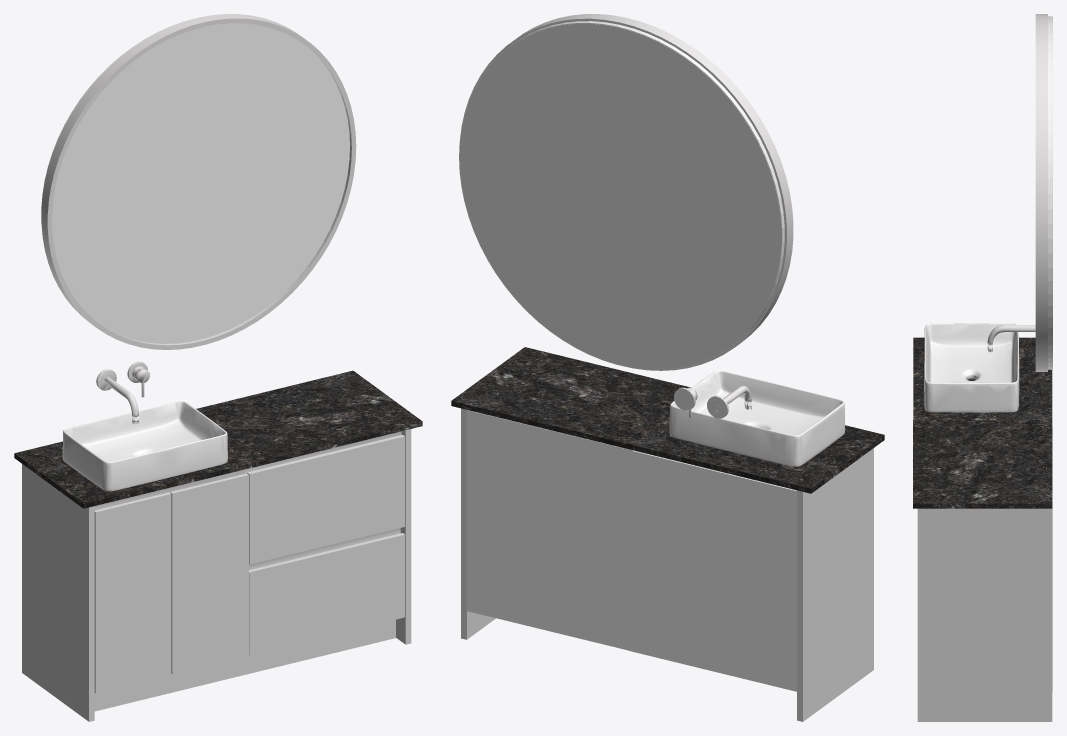
File: SAGA-final.glb
3 views of the same model, side by side, from view 1: azimuth 30°, elevation 25°; view 2: azimuth 150°, elevation 25°; view 3: azimuth 270°, elevation 25° (orthographic). The views are drawn at different scales.
Visible parts, largest first — view 1: SAGA; view 2: SAGA; view 3: SAGA.
Boxes of the visible parts, <box> form: SAGA: <box>14,14,422,721</box>; SAGA: <box>451,14,884,721</box>; SAGA: <box>913,14,1052,721</box>.
Bounding box in the file's own units: 1.31 × 2.28 × 0.4674.
7 materials, 2 textured.
